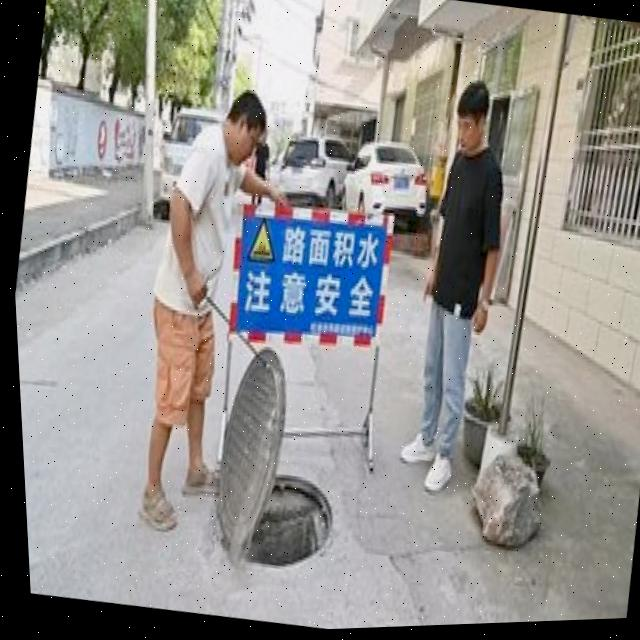manhole: (197, 344, 359, 576)
